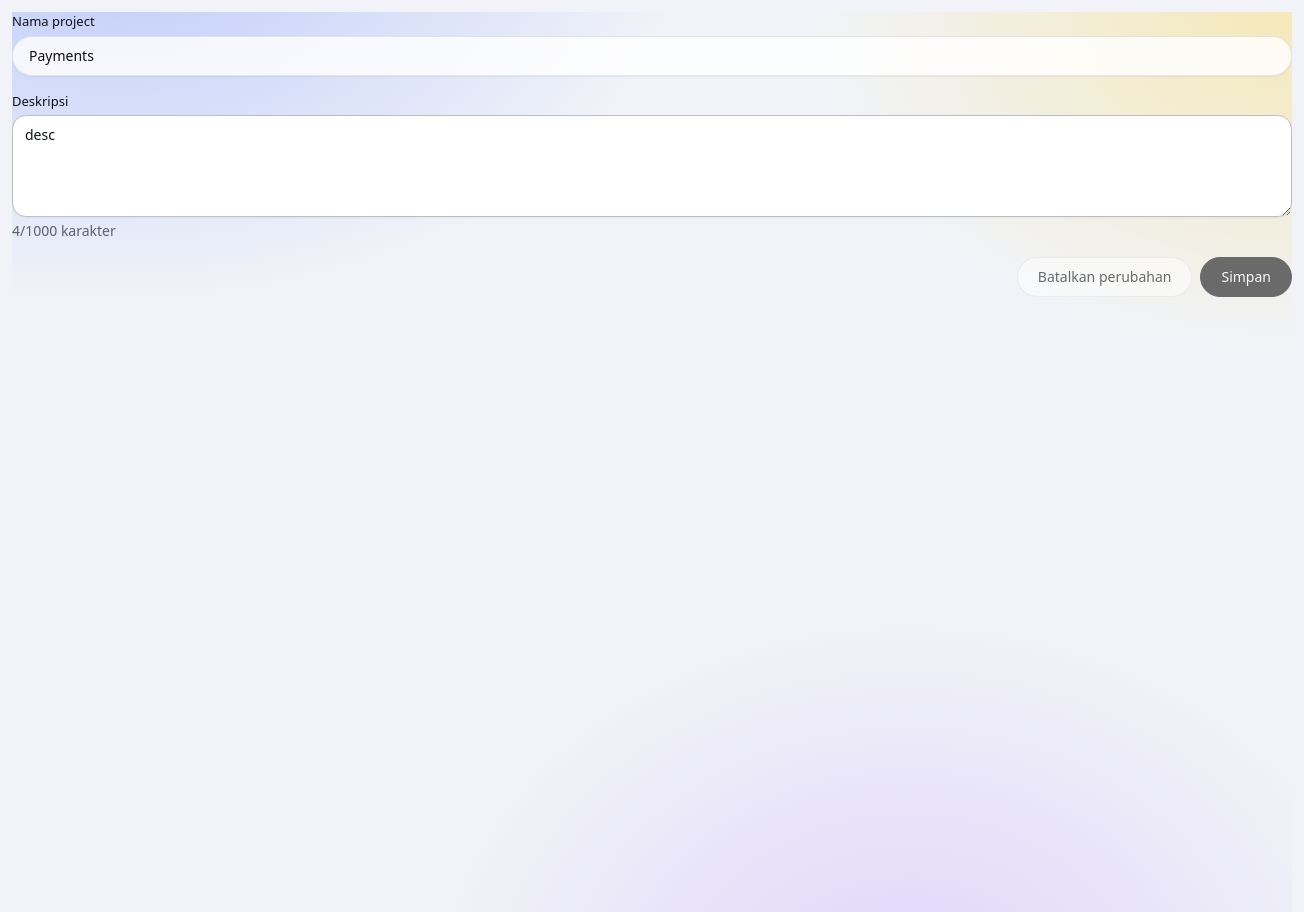
ProjectSettingsForm › save disabled until a change, discard restores initial
Expected: the button "Simpan" is disabled, [1200,257,1292,297]
Step 1. Type " v2" into the field labelled "Nama project" → (652, 56), box [12,36,1292,76]
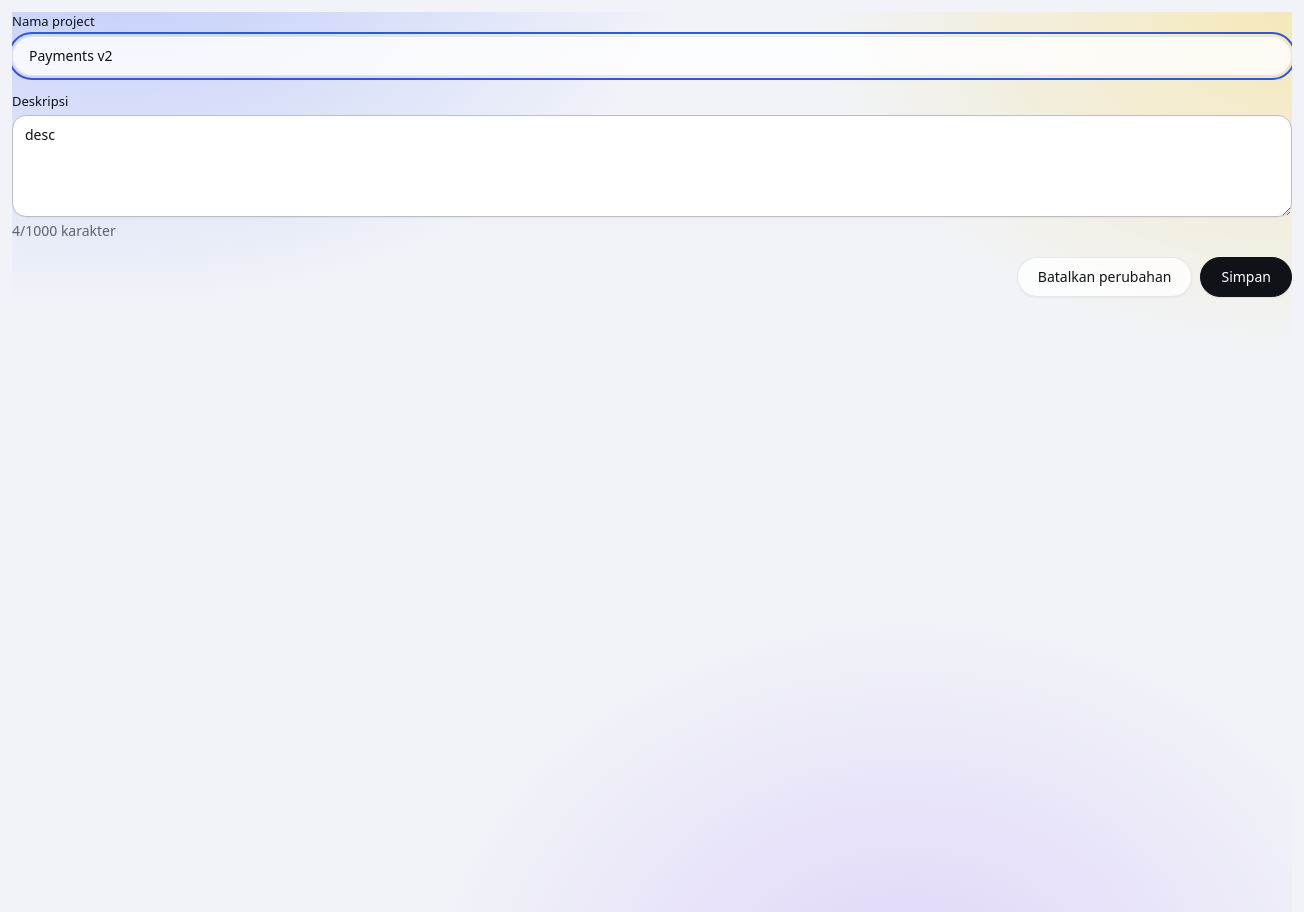
Result: the button "Simpan" is enabled at [1200,257,1292,297]
Step 2. Click the button "Batalkan perubahan" → click(1105, 277), box [1017,257,1192,297]
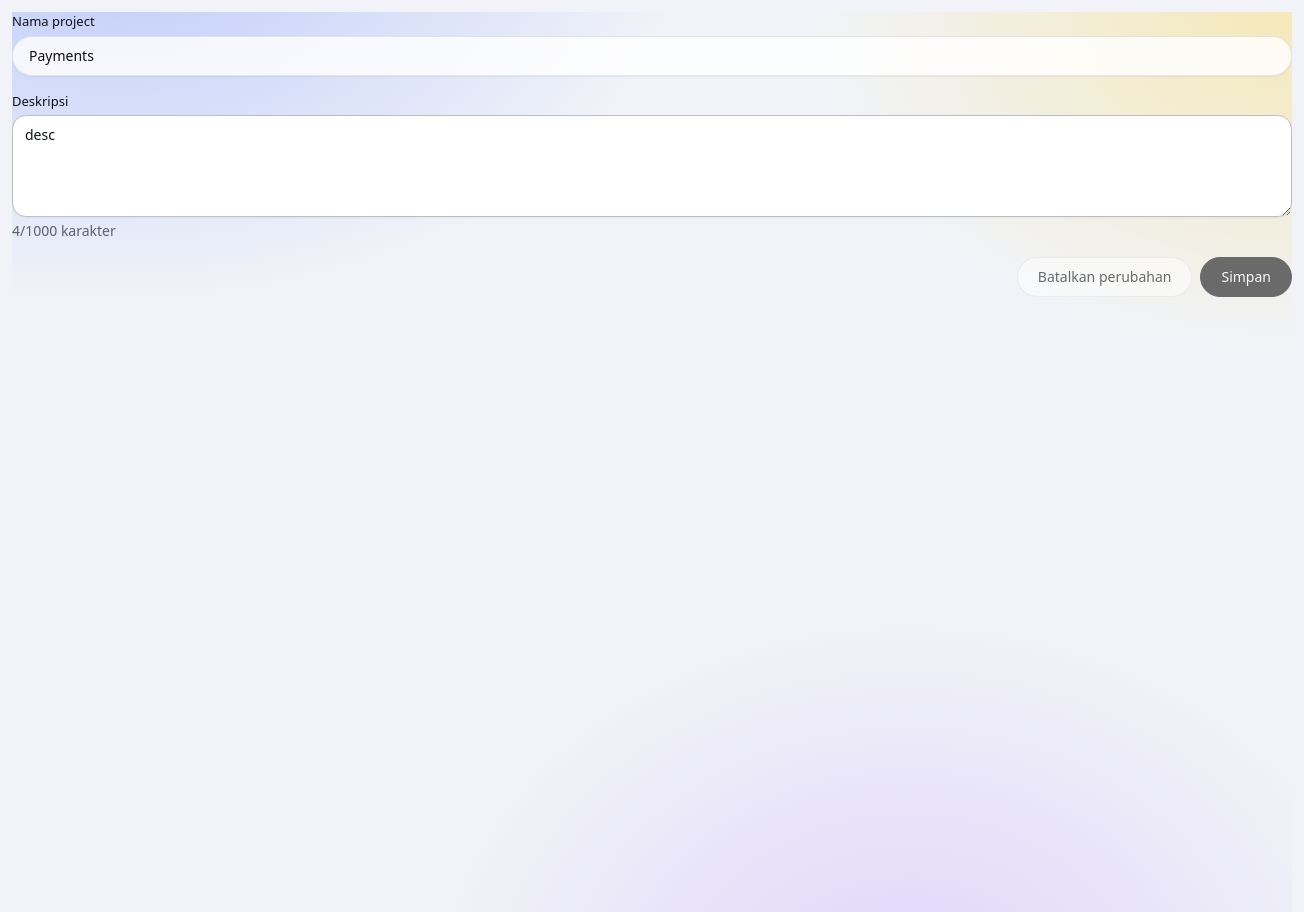
Result: the field labelled "Nama project" holds "Payments" at [12,36,1292,76]
Result: the button "Simpan" is disabled at [1200,257,1292,297]
